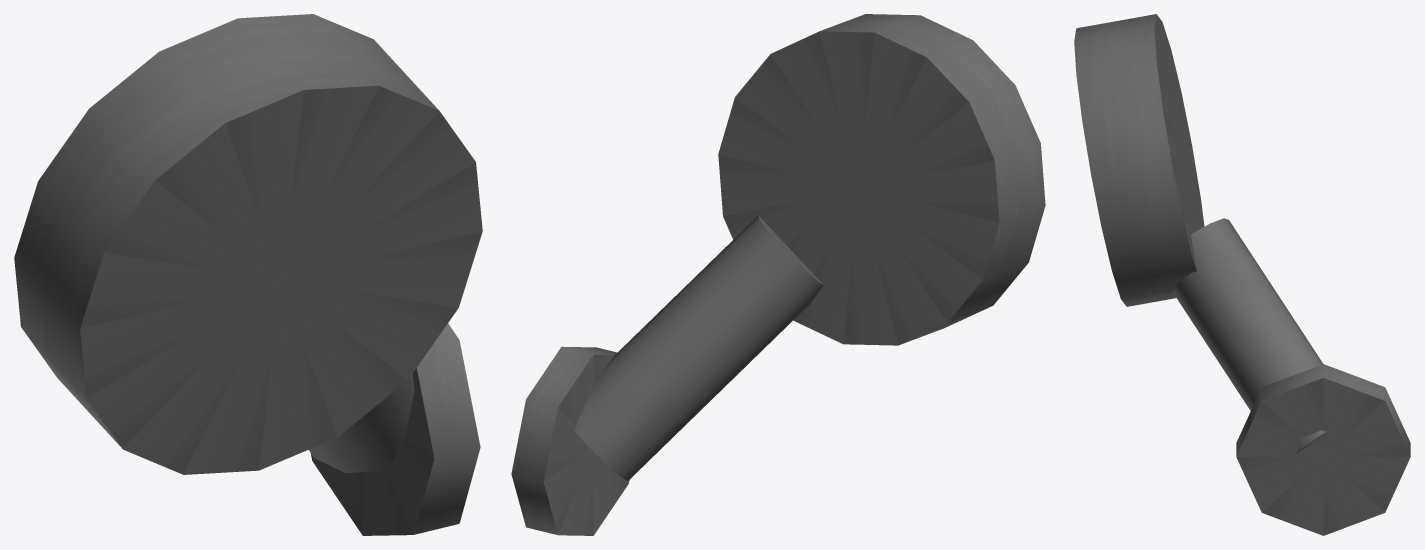
The model's file is mastarmcurve_10x2_c6_east.obj.
3 renders of one model, left to right at view 1: azimuth 30°, elevation 25°; view 2: azimuth 150°, elevation 25°; view 3: azimuth 270°, elevation 25°, orthographic. The views are drawn at different scales.
Parts seen in each view (by area): view 1: mastarm_10x2_c6_east; view 2: mastarm_10x2_c6_east; view 3: mastarm_10x2_c6_east.
Part boxes in pixels (<box>): mastarm_10x2_c6_east: <box>14,14,482,535</box>; mastarm_10x2_c6_east: <box>511,14,1045,535</box>; mastarm_10x2_c6_east: <box>1074,14,1410,535</box>.
Bounding box in the file's own units: 0.8348 × 1.05 × 0.7713.
